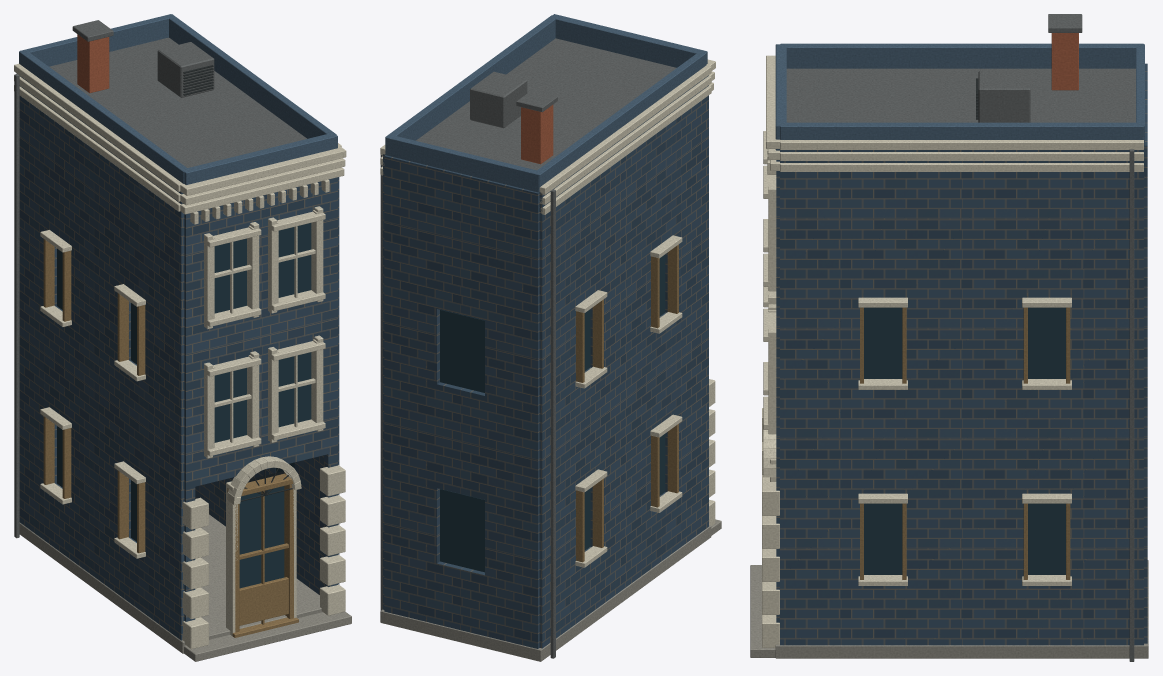
Rendered from OFFC12_lod1.glb.
The picture shows the model from 3 angles, left to right: view 1: azimuth 30°, elevation 25°; view 2: azimuth 150°, elevation 25°; view 3: azimuth 270°, elevation 25°; orthographic projection. The views are drawn at different scales.
Parts seen in each view (by area): view 1: OFFC12_LOD1; view 2: OFFC12_LOD1; view 3: OFFC12_LOD1.
Boxes of the visible parts, bbox=[...] form: OFFC12_LOD1: bbox=[14, 14, 351, 661]; OFFC12_LOD1: bbox=[380, 14, 721, 661]; OFFC12_LOD1: bbox=[750, 14, 1148, 661].
Bounding box in the file's own units: 3.71 × 10.45 × 6.57.
Materials: 10 (8 with a texture image).
